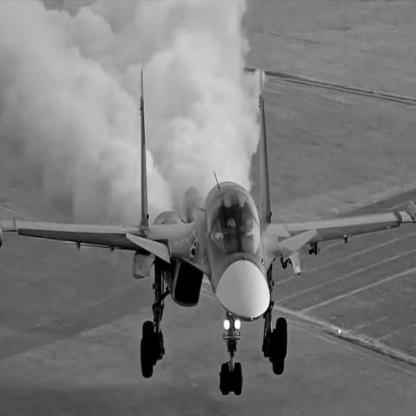Su34: (2, 67, 416, 398)
